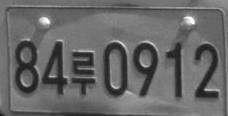0: (103, 40, 128, 96)
1: (164, 42, 191, 98)
2: (194, 42, 220, 98)
4: (41, 40, 68, 95)
8: (14, 39, 39, 94)
9: (132, 42, 159, 97)
루: (71, 50, 95, 96)
